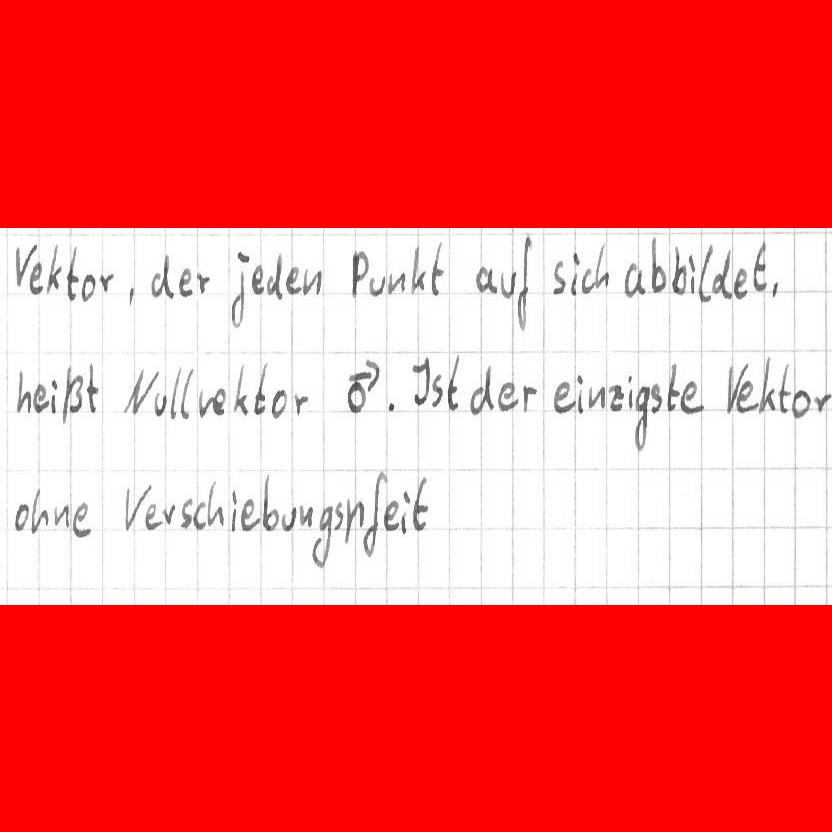Char: (362, 468, 388, 558), (121, 366, 158, 417), (515, 232, 533, 334), (229, 248, 249, 330), (61, 366, 85, 426), (311, 502, 333, 567), (468, 363, 495, 415), (121, 484, 146, 538), (757, 355, 777, 415), (409, 356, 432, 407), (204, 477, 227, 528), (342, 494, 365, 545), (149, 254, 175, 299), (711, 248, 733, 301), (261, 472, 281, 530), (346, 358, 380, 392), (724, 362, 745, 417), (649, 234, 668, 294), (633, 384, 650, 451), (409, 477, 430, 530), (29, 485, 51, 535), (696, 241, 713, 304), (678, 379, 707, 414), (45, 243, 64, 296), (232, 364, 251, 416), (593, 242, 613, 290), (265, 251, 284, 301), (70, 500, 95, 538), (351, 249, 370, 298), (431, 242, 448, 296), (752, 240, 769, 294), (447, 352, 462, 412), (622, 261, 646, 298), (552, 379, 578, 413), (179, 365, 195, 420), (14, 367, 32, 415), (253, 363, 269, 417), (65, 244, 80, 301), (735, 378, 758, 415), (671, 245, 688, 295), (409, 245, 426, 294), (13, 242, 31, 288), (344, 381, 368, 415), (777, 362, 792, 416), (496, 380, 520, 413), (239, 496, 261, 531), (665, 362, 680, 413), (86, 361, 99, 415), (474, 264, 498, 293), (170, 365, 182, 422), (142, 498, 162, 532), (303, 266, 324, 297), (789, 388, 810, 419), (550, 258, 567, 295), (297, 500, 317, 531), (31, 382, 50, 413), (732, 265, 748, 300), (291, 389, 311, 417), (384, 497, 400, 532), (270, 388, 288, 419), (520, 382, 538, 413), (279, 503, 297, 534), (80, 271, 97, 303), (429, 373, 444, 409), (52, 503, 71, 531), (27, 261, 43, 294), (177, 266, 194, 297), (499, 269, 516, 300), (13, 502, 30, 533), (179, 494, 194, 529), (285, 264, 302, 294), (387, 271, 407, 296), (211, 385, 227, 416), (687, 252, 698, 297), (230, 488, 241, 533), (606, 382, 623, 411), (152, 389, 168, 419), (400, 489, 410, 537), (813, 390, 831, 416), (197, 388, 212, 419), (570, 251, 580, 297), (98, 271, 117, 295), (367, 272, 386, 296), (192, 498, 205, 533), (251, 262, 265, 294), (575, 373, 586, 413), (587, 385, 606, 408), (650, 381, 663, 413), (196, 270, 212, 295), (333, 499, 345, 532), (162, 501, 178, 525), (580, 266, 593, 295), (49, 377, 58, 417), (382, 397, 398, 416), (626, 372, 634, 410), (125, 286, 137, 306), (769, 279, 780, 300)
